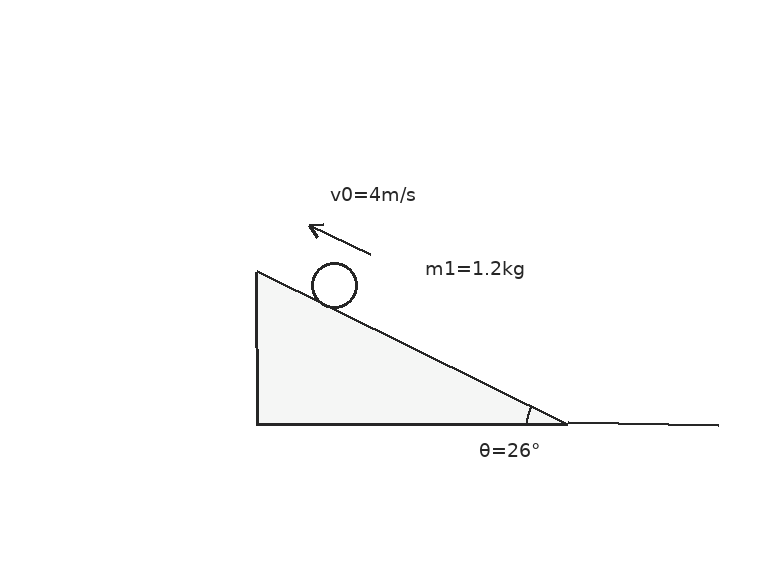ball: (309, 260, 359, 310)
ramp: (254, 270, 569, 426)
